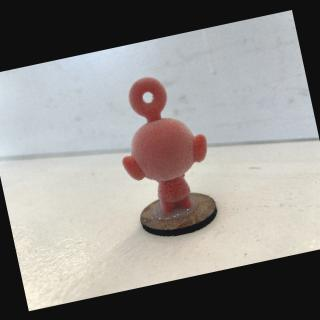teletubby: (122, 77, 206, 213)
